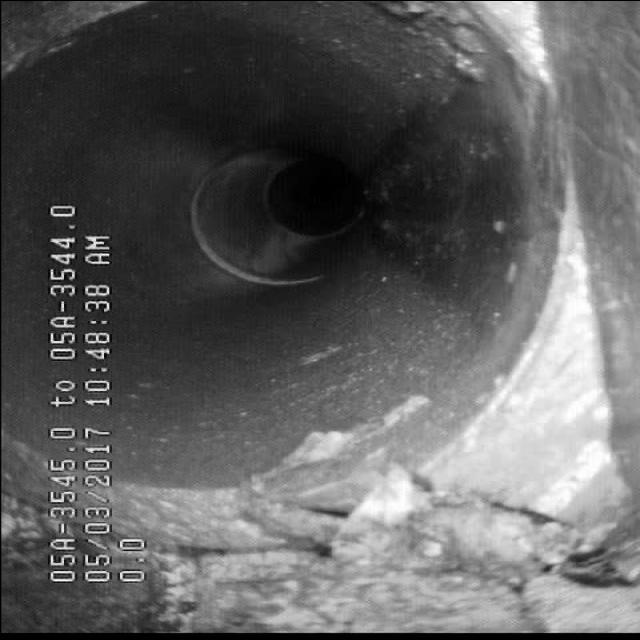Fracture: (192, 456, 558, 612)
